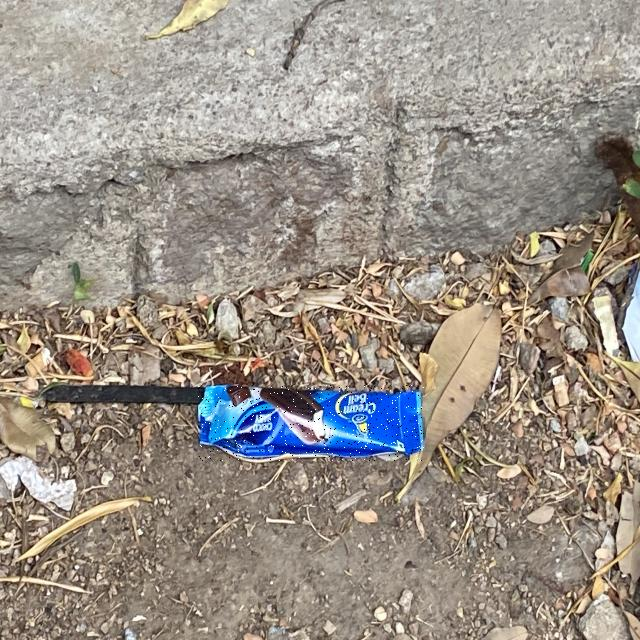wrapper: (198, 385, 424, 461)
